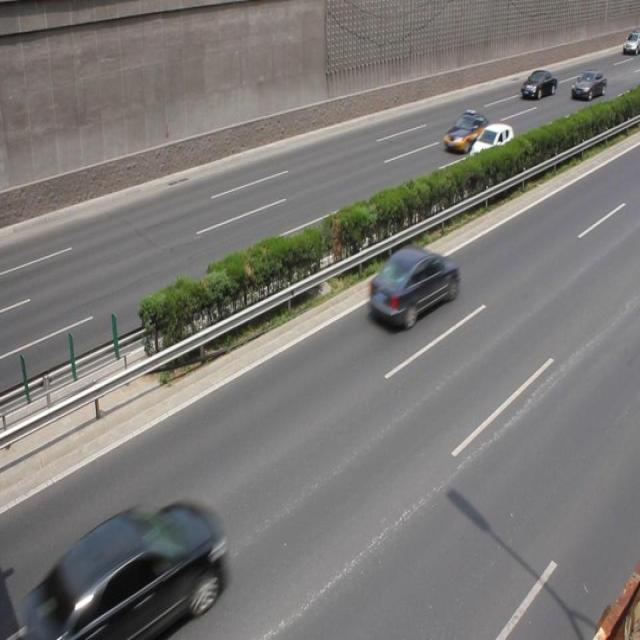car: (35, 499, 224, 626), (368, 246, 459, 330), (442, 110, 492, 154), (467, 124, 513, 169), (519, 70, 556, 101), (570, 71, 606, 100)
